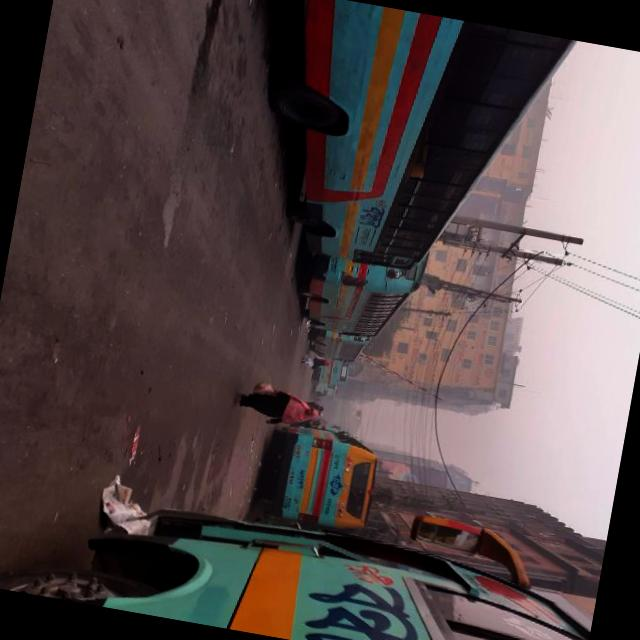bus: (25, 479, 599, 640), (265, 0, 579, 293), (260, 419, 382, 530), (300, 244, 426, 344), (307, 327, 370, 362), (316, 356, 350, 385), (313, 380, 337, 398)
